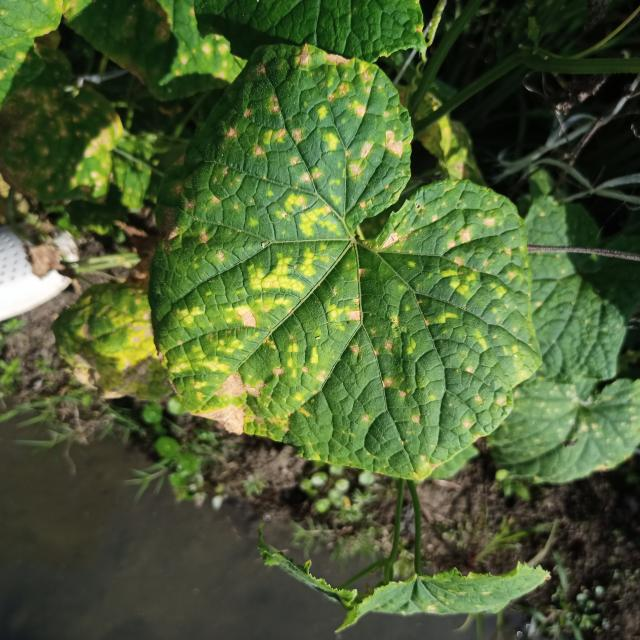disease_cucumber: (155, 43, 534, 470)
